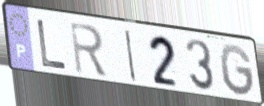2: (145, 32, 182, 91)
3: (185, 38, 216, 94)
G: (218, 42, 256, 99)
I: (123, 27, 138, 83)
L: (35, 17, 69, 72)
R: (68, 20, 109, 78)
